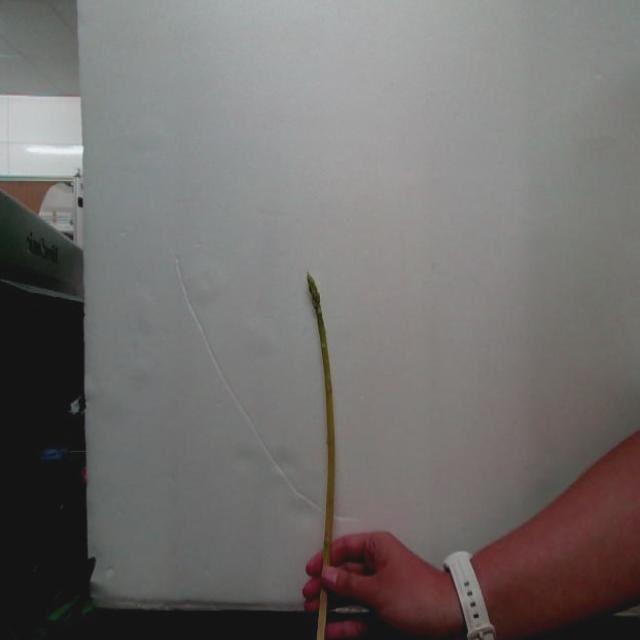aspargus: (307, 277, 337, 569)
